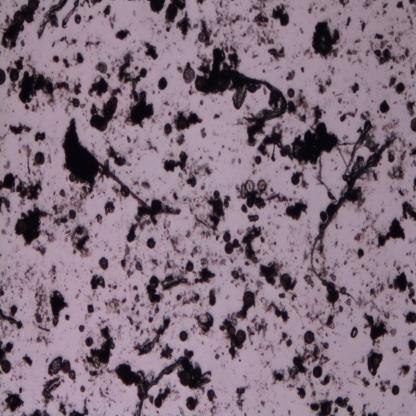Air bubble: (349, 327, 359, 338)
Background material: (62, 117, 145, 209), (257, 121, 338, 165), (118, 49, 155, 132), (18, 65, 66, 112), (49, 184, 93, 227), (81, 324, 114, 378), (33, 280, 70, 328), (194, 50, 233, 94), (213, 10, 241, 70), (133, 314, 172, 356), (369, 30, 412, 66), (181, 350, 211, 394), (136, 198, 180, 228), (204, 188, 232, 235), (312, 20, 344, 61), (248, 1, 277, 46), (288, 343, 320, 383), (86, 96, 119, 132), (239, 225, 267, 266), (186, 195, 214, 236), (65, 222, 94, 260), (360, 310, 390, 346), (388, 135, 410, 183), (23, 204, 48, 243), (110, 364, 146, 391), (220, 314, 241, 360), (239, 180, 267, 214), (377, 217, 406, 249), (356, 217, 382, 249), (128, 286, 145, 334), (258, 258, 284, 288), (243, 316, 269, 345), (121, 244, 143, 278), (0, 302, 26, 330), (88, 76, 121, 98), (288, 90, 310, 122), (162, 150, 188, 177), (0, 385, 26, 412), (193, 309, 216, 339), (105, 140, 129, 168), (16, 177, 44, 201), (0, 16, 19, 50), (195, 256, 216, 286), (67, 80, 86, 113), (18, 260, 33, 300), (164, 0, 188, 25), (230, 80, 248, 112), (346, 185, 369, 210), (269, 1, 290, 28), (146, 272, 164, 303), (151, 386, 174, 410), (315, 67, 335, 94), (267, 300, 290, 322), (285, 200, 310, 220), (163, 273, 190, 291), (138, 38, 160, 60), (318, 256, 338, 280), (392, 264, 408, 294), (175, 290, 203, 307), (367, 349, 384, 377), (21, 0, 40, 25), (68, 394, 90, 415), (190, 158, 213, 178), (103, 296, 126, 316), (356, 294, 380, 313), (233, 383, 248, 413), (42, 376, 60, 401), (326, 282, 342, 310), (353, 364, 370, 389), (176, 12, 191, 40), (201, 18, 215, 48), (335, 395, 356, 415), (368, 278, 388, 298), (230, 266, 248, 288), (0, 172, 18, 194), (8, 121, 33, 136), (97, 384, 114, 406), (280, 273, 299, 292), (306, 304, 324, 324), (32, 329, 52, 347), (337, 106, 359, 122), (381, 118, 402, 134), (248, 122, 262, 146), (48, 354, 62, 378), (184, 393, 200, 413), (388, 74, 404, 94), (401, 200, 416, 221), (318, 342, 331, 366), (269, 45, 286, 63), (168, 235, 184, 254), (0, 272, 12, 297), (22, 144, 32, 174), (266, 190, 289, 203), (32, 240, 49, 257), (272, 368, 288, 386), (324, 310, 337, 332), (52, 36, 77, 47), (90, 274, 107, 290), (187, 111, 203, 128), (406, 279, 416, 306), (389, 186, 411, 198), (0, 338, 13, 358), (346, 48, 362, 64), (102, 195, 115, 214), (159, 345, 173, 362), (206, 288, 217, 309), (47, 263, 58, 284), (332, 374, 344, 393), (311, 105, 323, 124), (374, 378, 390, 392), (149, 0, 165, 14), (13, 54, 26, 71), (84, 37, 101, 50), (232, 238, 244, 256), (7, 80, 19, 98), (0, 197, 12, 215), (127, 222, 139, 240), (144, 137, 158, 152), (378, 99, 391, 115), (34, 128, 47, 144), (301, 44, 314, 60), (361, 404, 378, 416), (344, 245, 354, 265), (266, 234, 278, 250), (158, 74, 170, 90), (406, 99, 416, 118), (174, 132, 187, 146), (397, 364, 410, 378), (319, 373, 332, 387), (220, 228, 232, 243), (236, 305, 248, 320), (98, 256, 109, 272), (57, 398, 67, 415), (85, 300, 95, 317), (43, 229, 56, 242), (149, 257, 163, 269), (280, 332, 292, 346), (404, 311, 416, 325), (183, 68, 194, 83), (22, 352, 33, 367), (116, 29, 131, 40), (407, 337, 416, 355), (409, 372, 416, 395), (185, 176, 198, 188), (102, 4, 113, 18), (246, 213, 260, 224), (31, 408, 50, 416), (318, 209, 328, 224), (303, 275, 315, 287), (407, 142, 416, 158), (359, 109, 371, 121), (140, 179, 152, 191), (146, 236, 157, 249), (74, 52, 85, 65), (94, 211, 104, 225), (362, 0, 376, 10), (206, 389, 216, 403), (254, 398, 268, 408), (356, 246, 366, 260), (350, 80, 360, 94), (358, 18, 368, 32), (309, 402, 322, 412), (297, 385, 306, 399), (106, 283, 119, 292), (228, 254, 239, 264), (288, 292, 300, 301), (406, 12, 413, 27), (172, 192, 182, 202), (218, 255, 228, 265), (196, 96, 206, 106), (285, 70, 296, 79), (53, 53, 62, 64), (110, 14, 117, 28), (344, 16, 352, 28), (111, 58, 117, 73), (410, 62, 416, 77), (396, 0, 405, 10), (2, 162, 12, 171), (63, 310, 72, 320), (339, 0, 350, 8), (307, 3, 314, 15), (301, 250, 308, 262), (353, 36, 362, 45), (77, 325, 86, 334), (382, 3, 388, 16), (214, 110, 221, 121), (17, 40, 26, 48), (189, 82, 194, 96), (338, 303, 344, 314), (412, 177, 416, 193), (0, 228, 8, 236), (332, 238, 339, 247), (236, 156, 243, 165), (277, 292, 286, 299), (64, 58, 70, 68), (196, 0, 206, 6), (106, 72, 113, 80), (346, 298, 353, 306), (391, 346, 399, 353), (201, 128, 206, 139), (407, 0, 416, 6), (176, 64, 182, 73), (283, 165, 293, 170), (300, 66, 306, 74), (370, 271, 376, 278), (89, 14, 93, 22), (360, 264, 365, 268)
Cellulose filter fibre: (307, 123, 393, 289), (216, 68, 289, 122), (133, 352, 186, 415), (36, 1, 66, 39), (62, 0, 79, 30), (166, 256, 182, 272)
Diatom: (243, 289, 255, 307), (302, 330, 316, 344), (236, 328, 247, 345), (118, 184, 131, 198), (94, 61, 108, 74), (14, 10, 25, 26), (61, 358, 71, 375), (180, 370, 190, 387), (15, 221, 27, 235), (8, 68, 20, 82), (34, 151, 45, 166), (177, 115, 187, 130), (83, 334, 94, 346), (321, 402, 332, 414), (185, 260, 195, 273), (291, 172, 300, 186), (257, 178, 266, 192), (2, 360, 11, 374), (0, 65, 6, 85), (254, 154, 264, 166), (163, 123, 173, 134), (138, 67, 148, 78), (197, 32, 207, 43), (312, 366, 322, 377), (391, 384, 400, 396), (179, 330, 188, 342), (410, 116, 416, 132), (225, 242, 233, 253), (227, 326, 236, 335), (72, 97, 80, 107), (288, 87, 295, 98), (74, 13, 81, 24), (68, 370, 76, 379), (214, 189, 221, 199), (339, 284, 347, 292), (80, 385, 85, 393), (166, 26, 170, 33), (215, 355, 220, 360)
